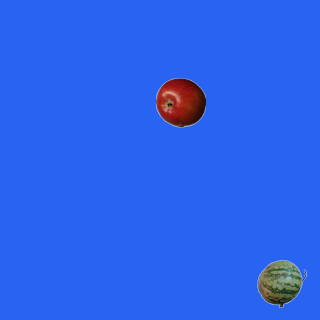Apple Braeburn: (155, 77, 205, 127)
Watermelon: (256, 258, 306, 308)
